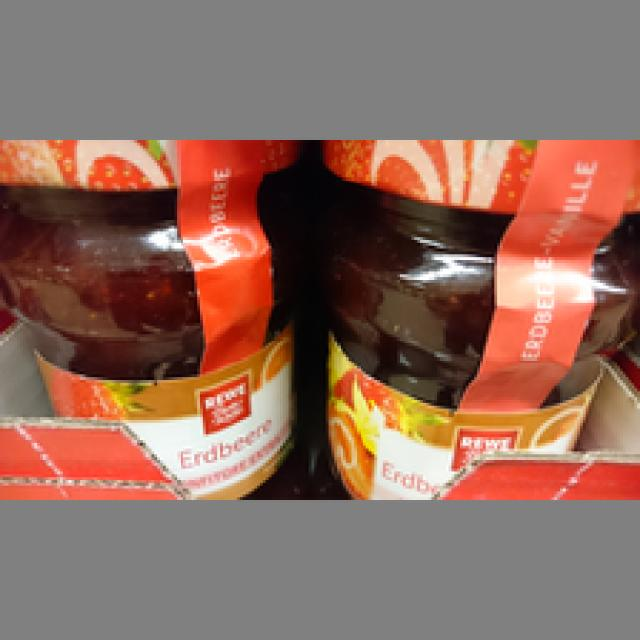groceries: (312, 137, 632, 497), (0, 137, 297, 497)
